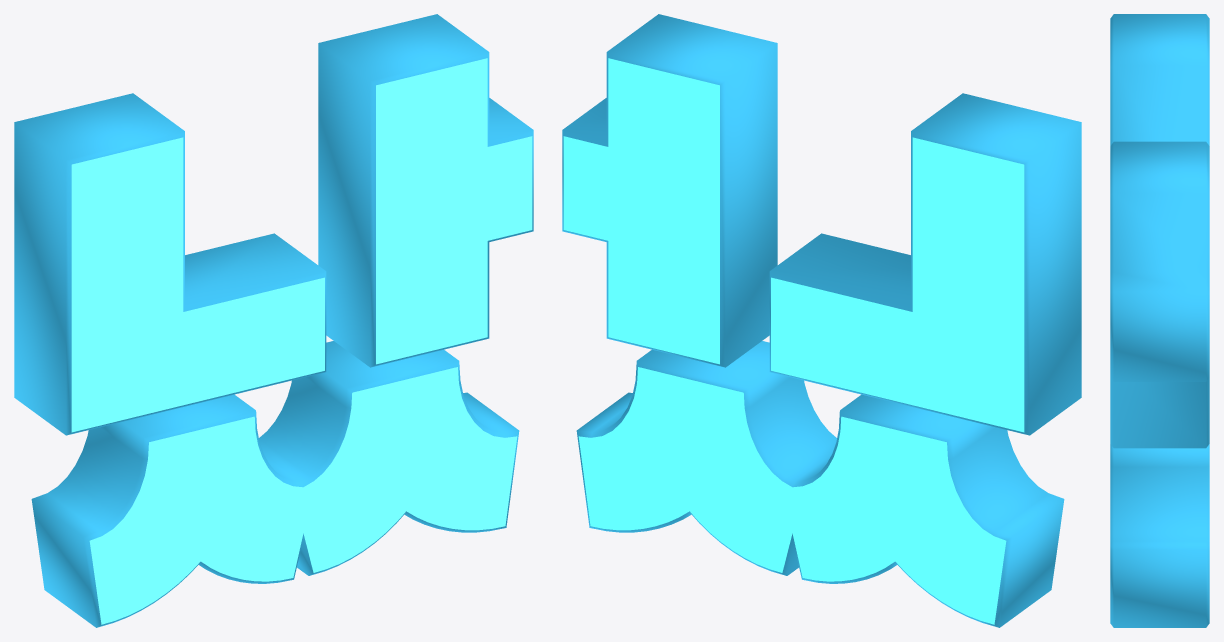
The picture shows the model from 3 angles, left to right: view 1: azimuth 30°, elevation 25°; view 2: azimuth 150°, elevation 25°; view 3: azimuth 270°, elevation 25°; orthographic projection. The views are drawn at different scales.
Parts seen in each view (by area): view 1: glyph; view 2: glyph; view 3: glyph.
Part boxes in pixels (x1,y1,x2,y2): glyph: (14,14,533,627); glyph: (562,14,1081,627); glyph: (1110,14,1209,627).
Bounding box in the file's own units: 0.0781 × 0.0766 × 0.0162.
